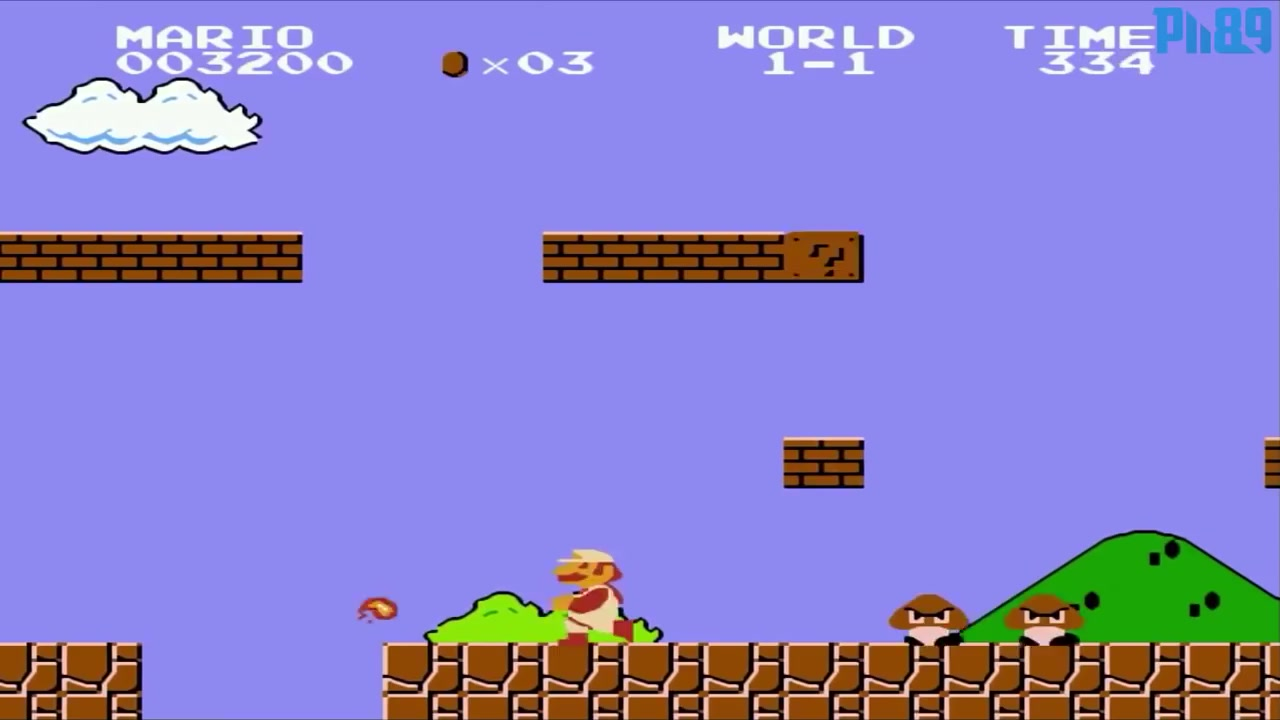mario: (544, 538, 635, 649)
